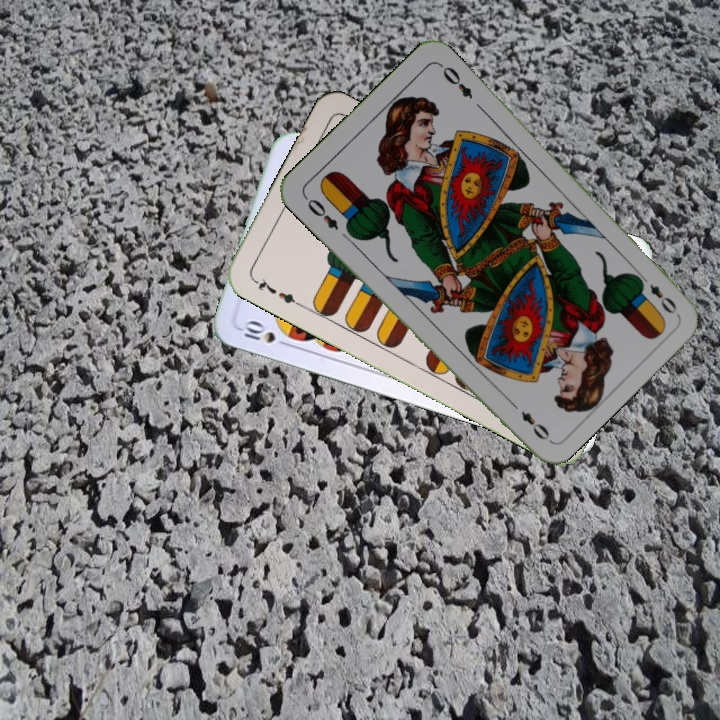E7: (249, 274, 303, 309)
EO: (634, 270, 680, 317), (300, 192, 341, 233)
S10: (236, 316, 294, 350)
